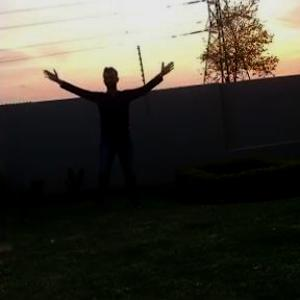takeoff: (52, 66, 171, 198)
